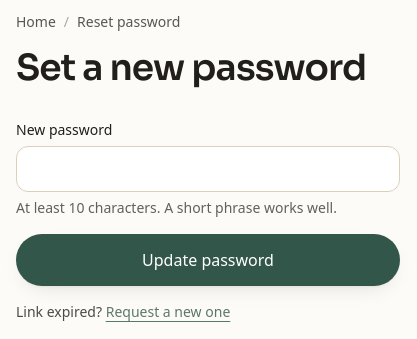
Test: ResetPage › submits the new password and shows success
This screenshot has width=417, height=339.
Type "new-password-here" into the password field labelled "New password" at (208, 169), box x1=16 y1=146 x2=400 y2=192
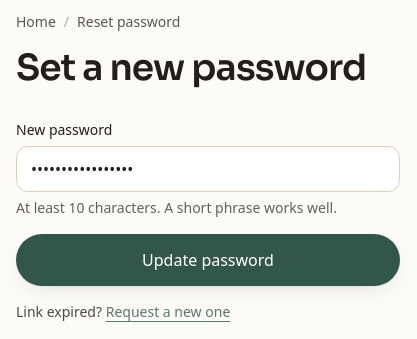
Click the button "Update password" at (208, 260), box x1=16 y1=234 x2=400 y2=286
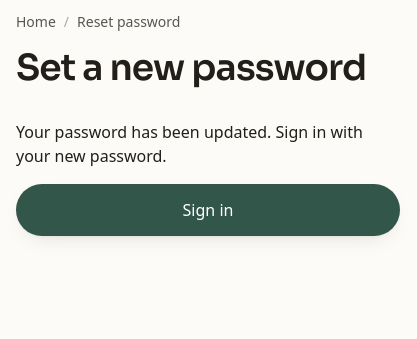
Result: the text "Your password has been updated" is shown at x1=16 y1=121 x2=363 y2=167
